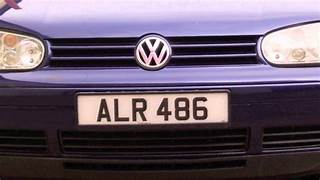number_plate: (77, 93, 230, 125)
